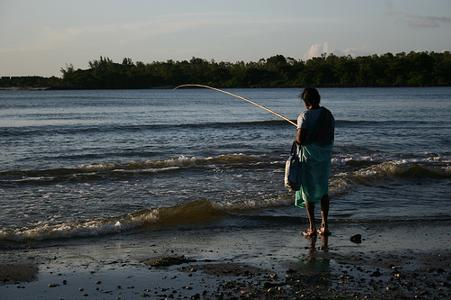person: (295, 87, 336, 236)
